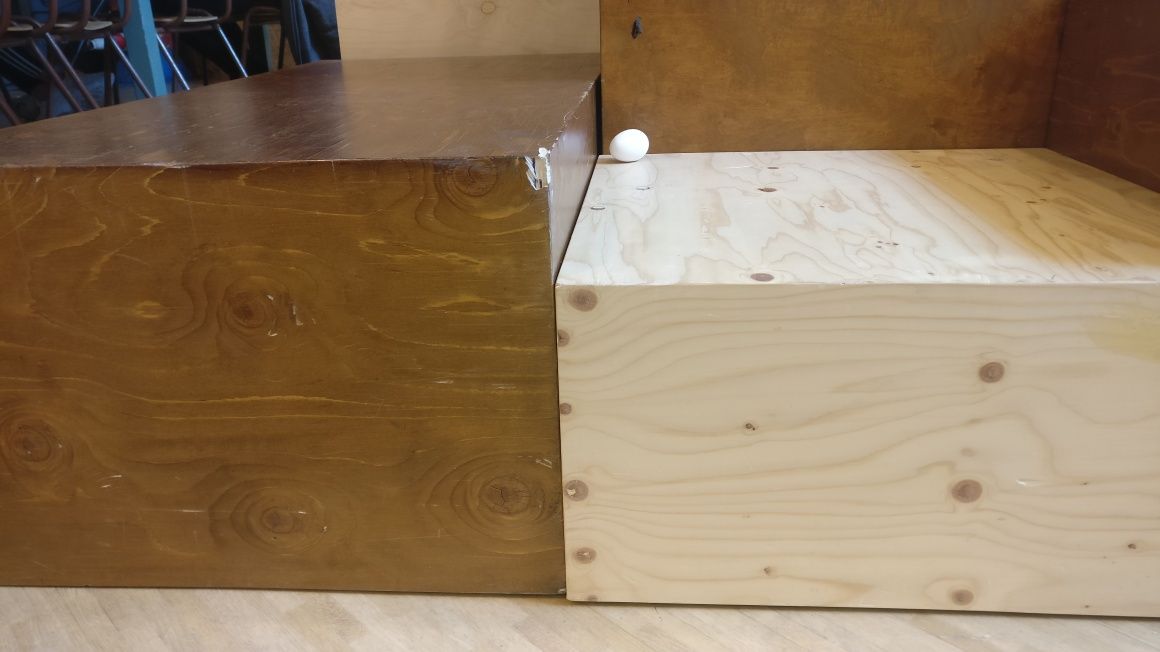egg: (608, 128, 648, 162)
